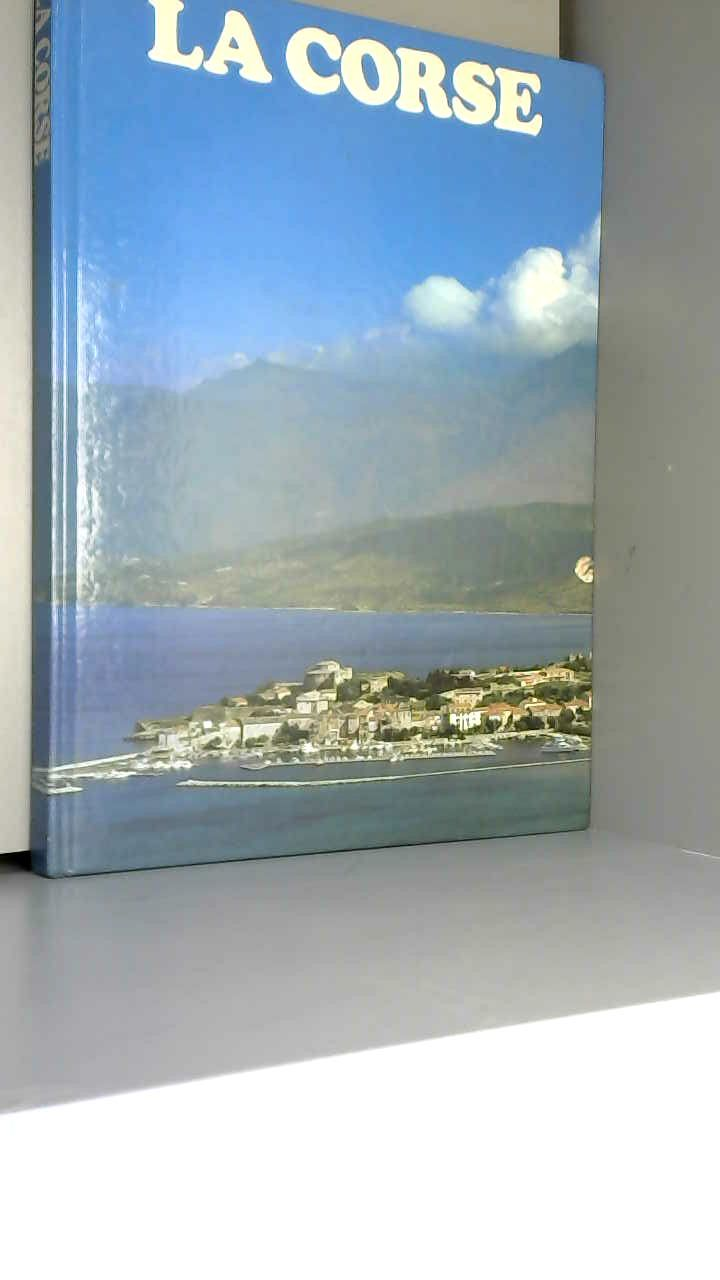book: (0, 0, 645, 913)
